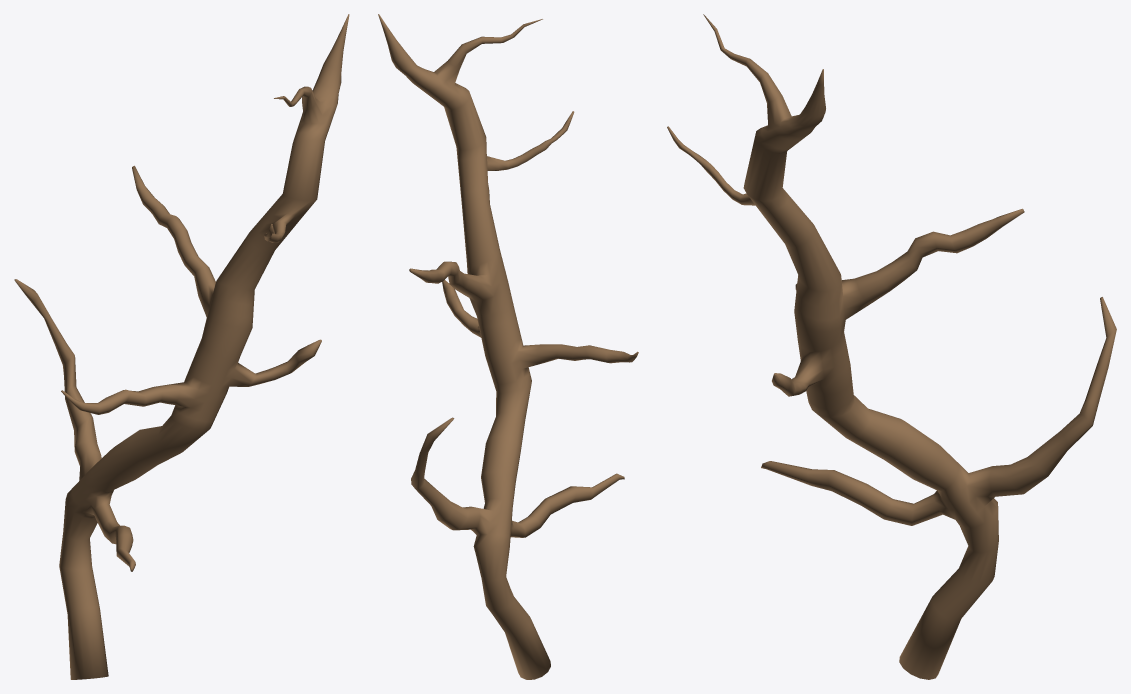
The model's file is rama3.glb.
3 renders of one model, left to right at view 1: azimuth 30°, elevation 25°; view 2: azimuth 150°, elevation 25°; view 3: azimuth 270°, elevation 25°, orthographic. The views are drawn at different scales.
Visible parts, largest first — view 1: Cylinder; view 2: Cylinder; view 3: Cylinder.
Part boxes in pixels (bbox=[...]): Cylinder: bbox=[14, 14, 349, 679]; Cylinder: bbox=[378, 14, 638, 679]; Cylinder: bbox=[667, 14, 1116, 679].
Size of the model in its own units: 9.95 by 21.37 by 12.06.
